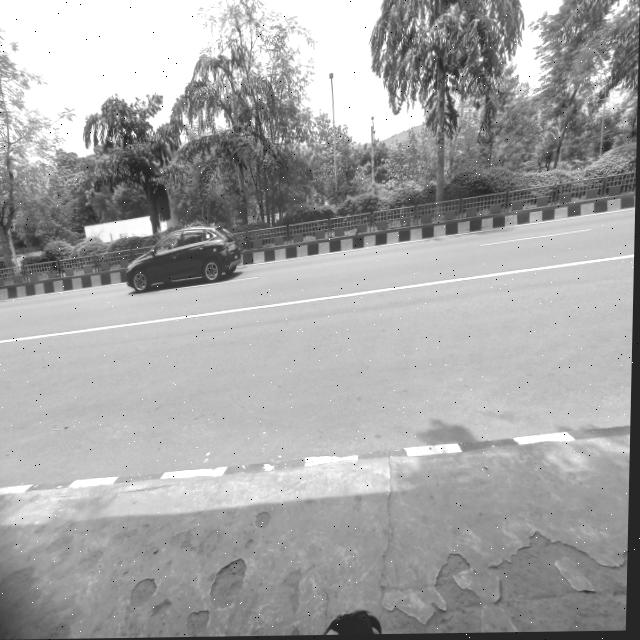car: (124, 223, 251, 291)
